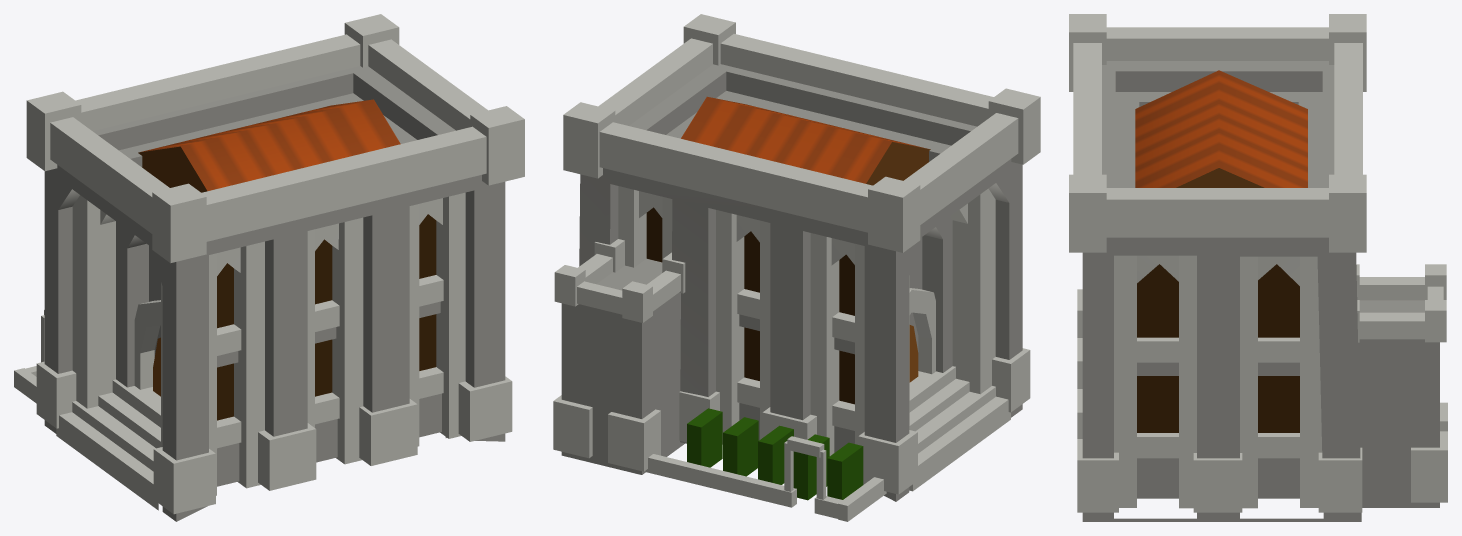
Rendered from hospital_.fbx.
3 renders of one model, left to right at view 1: azimuth 30°, elevation 25°; view 2: azimuth 150°, elevation 25°; view 3: azimuth 270°, elevation 25°, orthographic. The views are drawn at different scales.
Parts seen in each view (by area): view 1: polySurface228; view 2: polySurface228; view 3: polySurface228.
Boxes of the visible parts, x1,y1,x2,y2 form: polySurface228: (14, 14, 524, 521); polySurface228: (553, 14, 1040, 521); polySurface228: (1069, 14, 1447, 521).
Bounding box in the file's own units: 211 × 184 × 189.
1 material, 1 textured.
